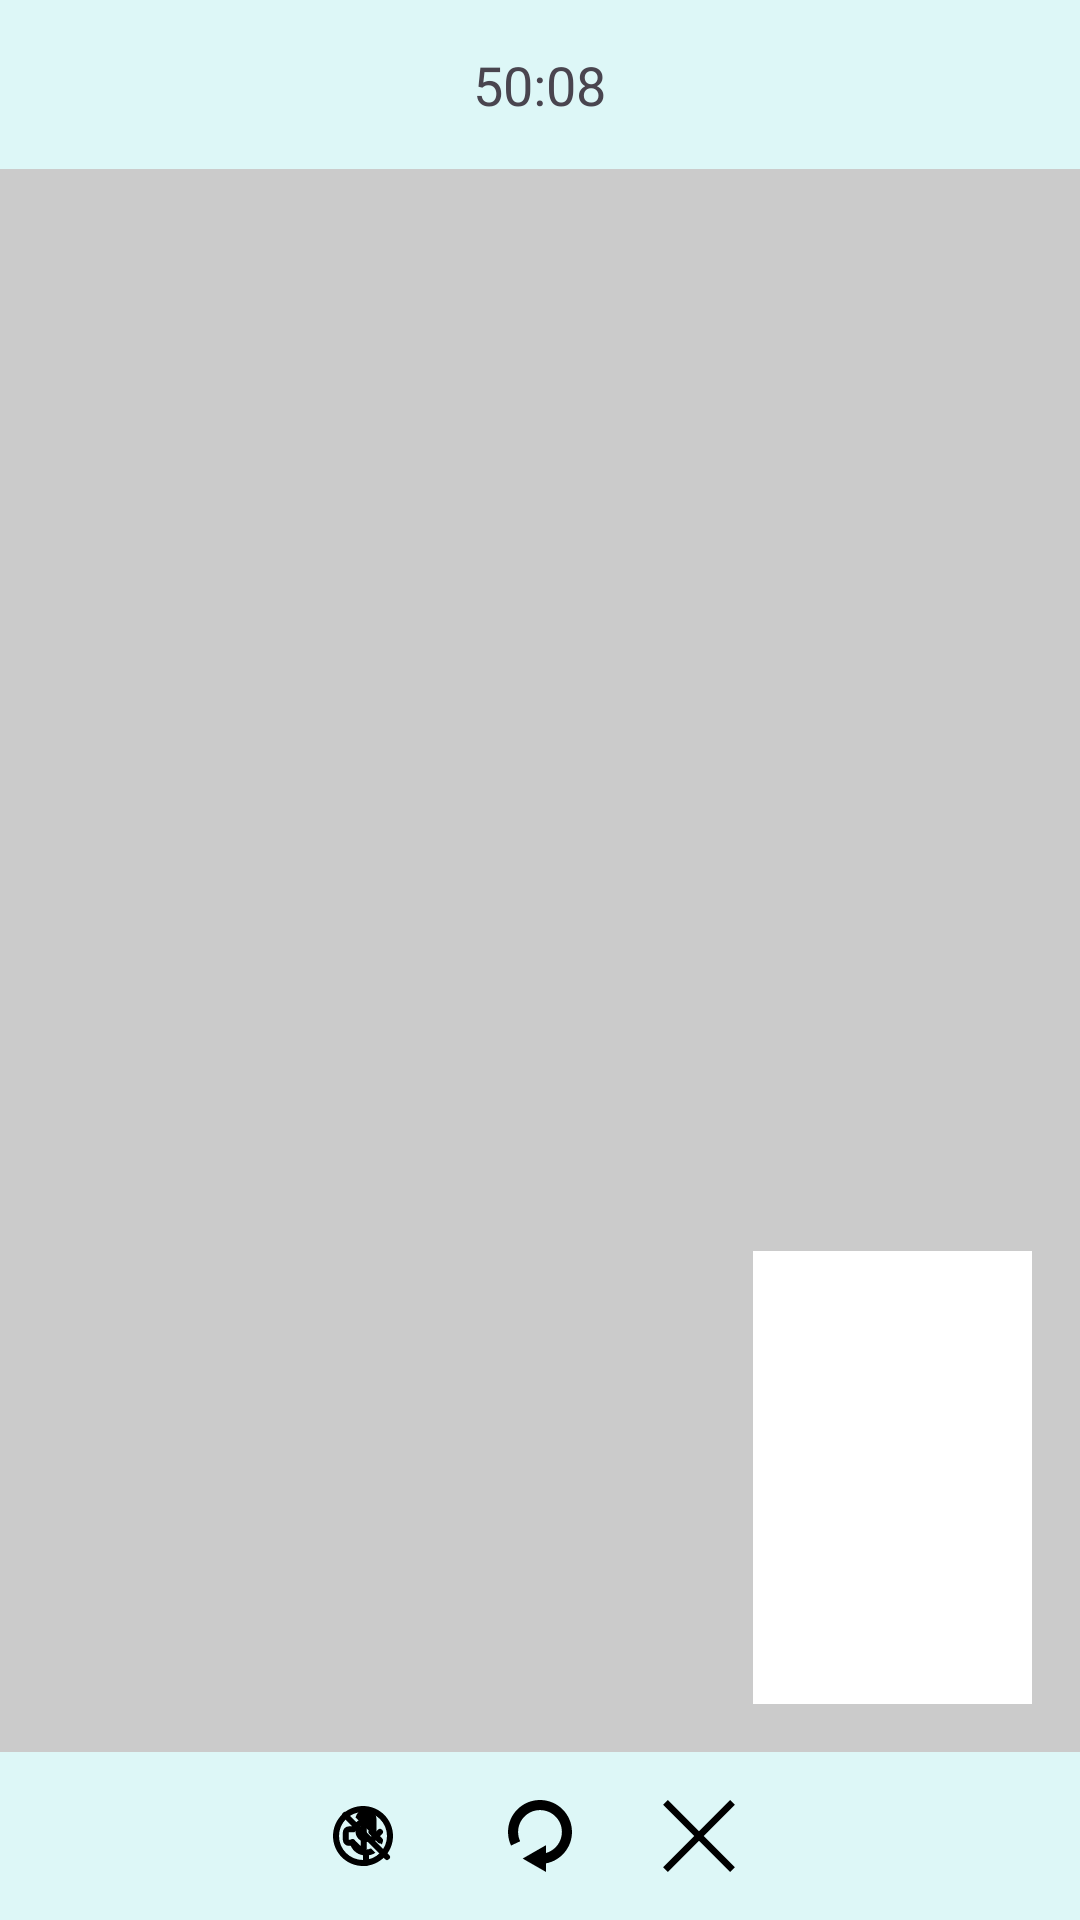

Point at icon controls on the screen. Image size 1080 × 1920, points as (x=x, y=y).
cross: (x=699, y=1836)
rotate: (x=540, y=1836)
